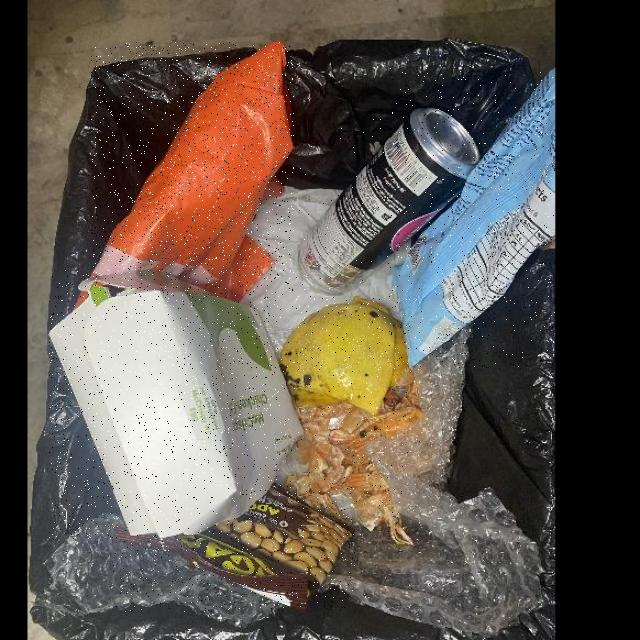biowaste: (287, 369, 424, 545), (279, 296, 409, 416)
metal: (299, 108, 480, 295)
paper: (49, 271, 305, 540)
plastic: (92, 42, 294, 304)
wrapper: (391, 67, 555, 369), (114, 484, 355, 612)
